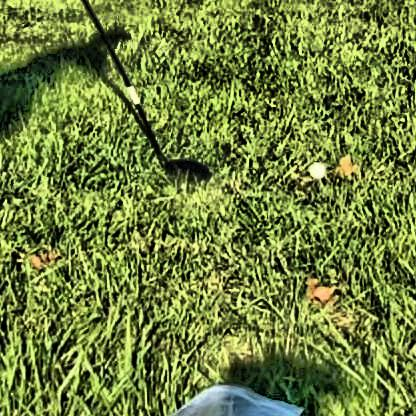golfball: (305, 158, 322, 177)
